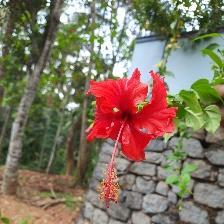hibiscus: (80, 67, 178, 212)
